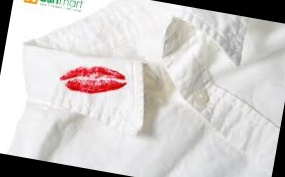lipstick: (57, 59, 128, 104)
